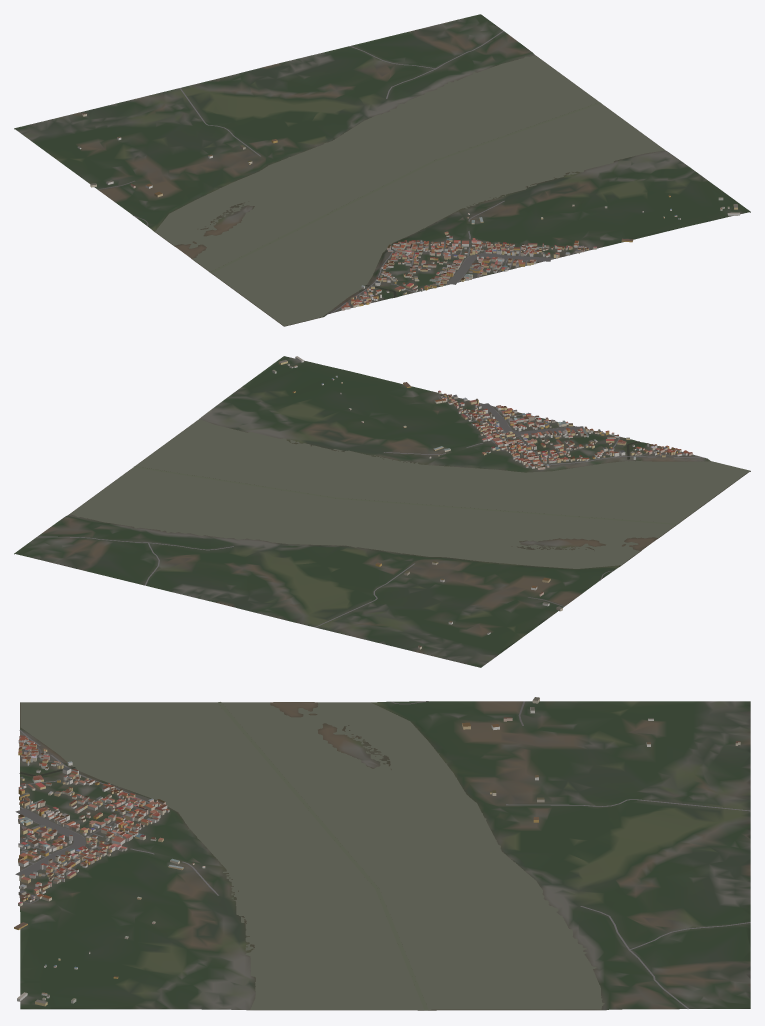
3 renders of one model, top to bottom at view 1: azimuth 30°, elevation 25°; view 2: azimuth 150°, elevation 25°; view 3: azimuth 270°, elevation 25°, orthographic. The views are drawn at different scales.
Visible parts, largest first — view 1: ground, water, buildings, roads; view 2: ground, water, buildings, roads; view 3: ground, water, buildings, roads.
Boxes of the visible parts, left/top/right/bottom form: ground: left=14, top=14, right=750, bottom=326; water: left=155, top=55, right=664, bottom=326; buildings: left=77, top=113, right=739, bottom=310; roads: left=98, top=31, right=590, bottom=313; ground: left=14, top=356, right=750, bottom=667; water: left=70, top=419, right=749, bottom=568; buildings: left=272, top=356, right=692, bottom=649; roads: left=37, top=394, right=704, bottom=627; ground: left=20, top=701, right=750, bottom=1010; water: left=19, top=702, right=604, bottom=1010; buildings: left=14, top=697, right=740, bottom=1006; roads: left=15, top=701, right=750, bottom=1008.
Bounding box in the file's own units: 1407 × 20.26 × 1414.
